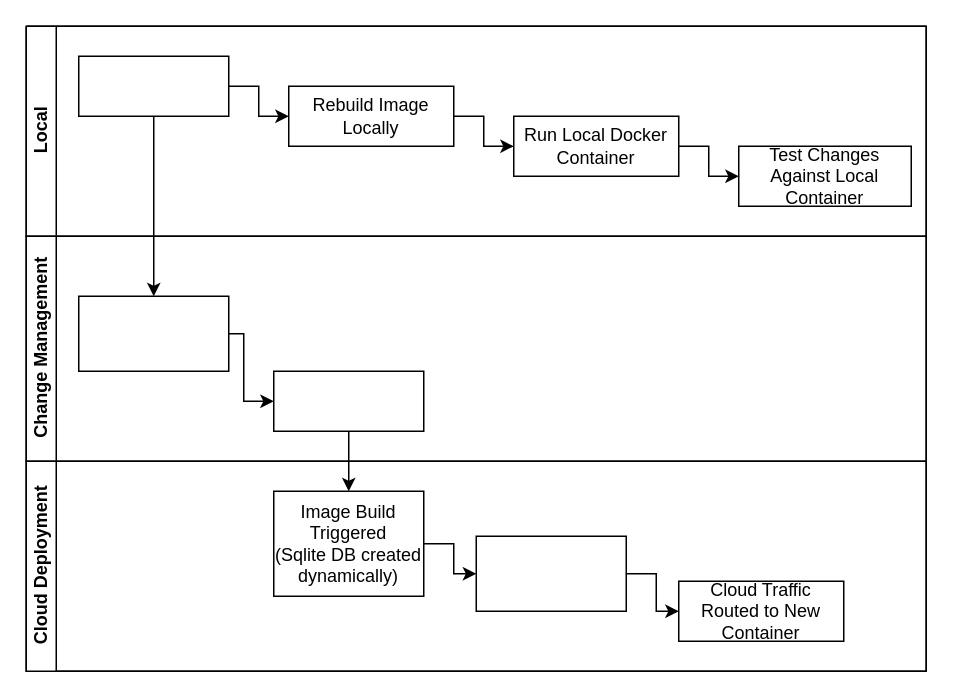
The diagram is 953 pixels wide and 698 high, and some of its shapes have lost their labels. The centre of each missing label's shape, as x and y in pixels:
"Enhancement Made Locally" goes at [153,85].
"Image Deployment Triggered" goes at [550,573].
"Merge to Release Branch" goes at [348,400].
"Push Changes to Remote Repo (Github Here)" goes at [153,333].
